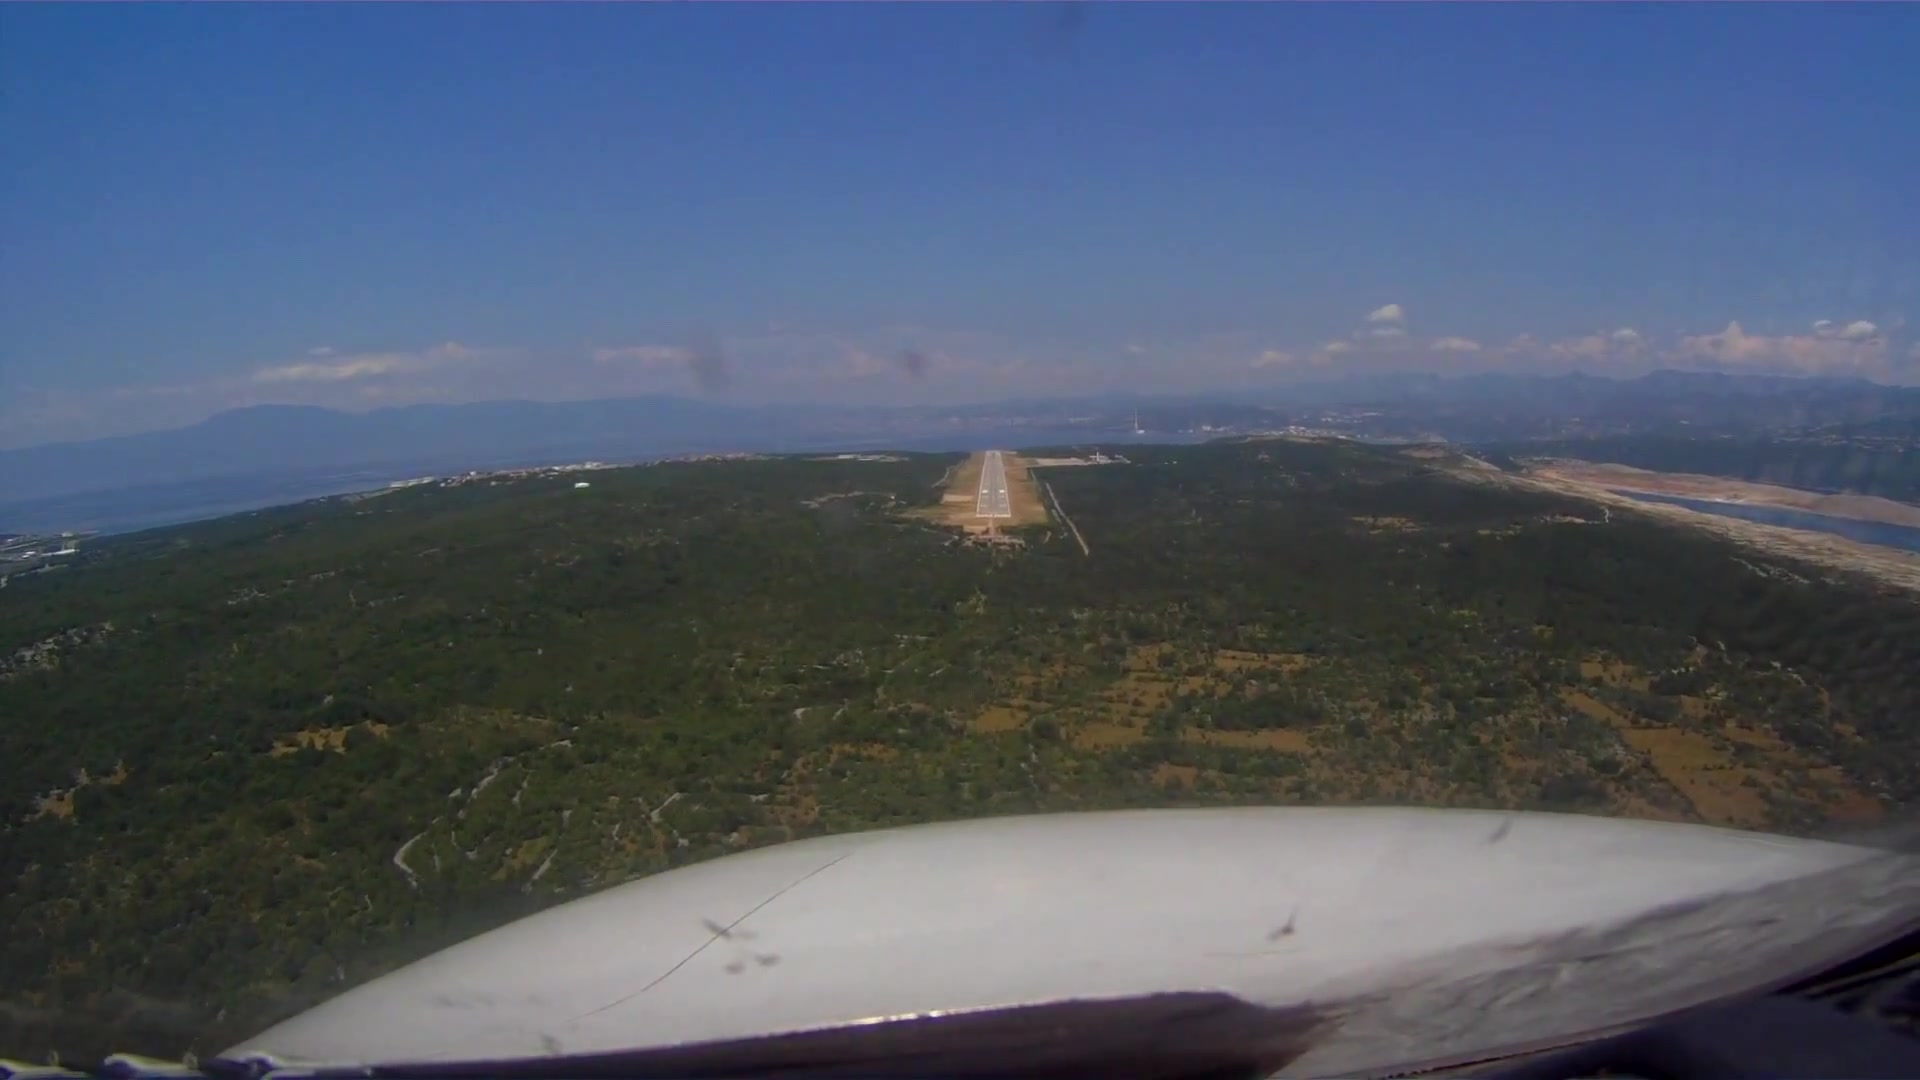runway: (975, 454, 1014, 520)
